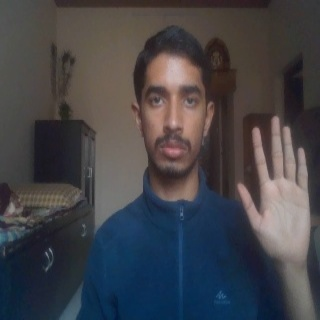Face: (128, 23, 216, 183)
Hello: (234, 114, 312, 267)
